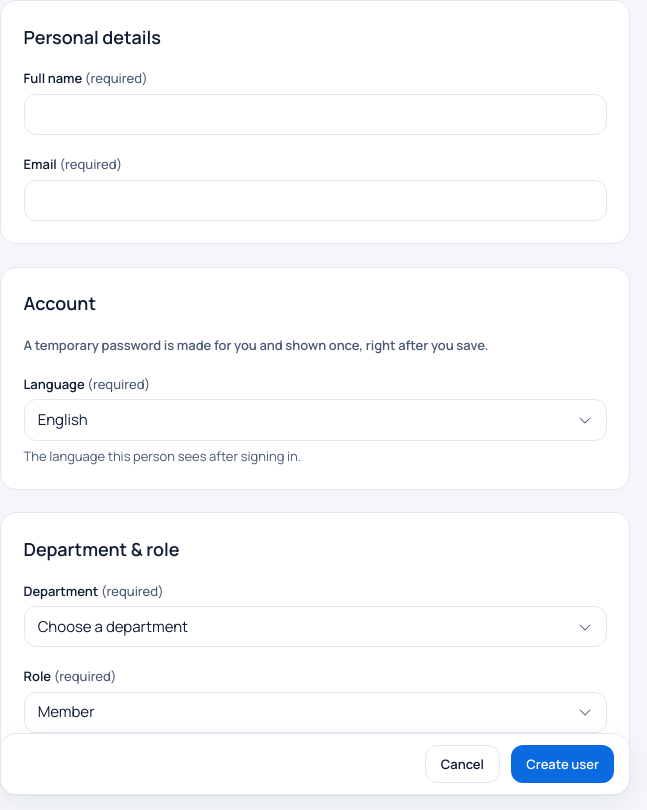
Test: UserForm: saving › puts a server field error beside the field, translated, and focuses it
Step 1. Type "Dana" into the field with id "field-full_name" → (315, 115), box [24, 94, 606, 135]
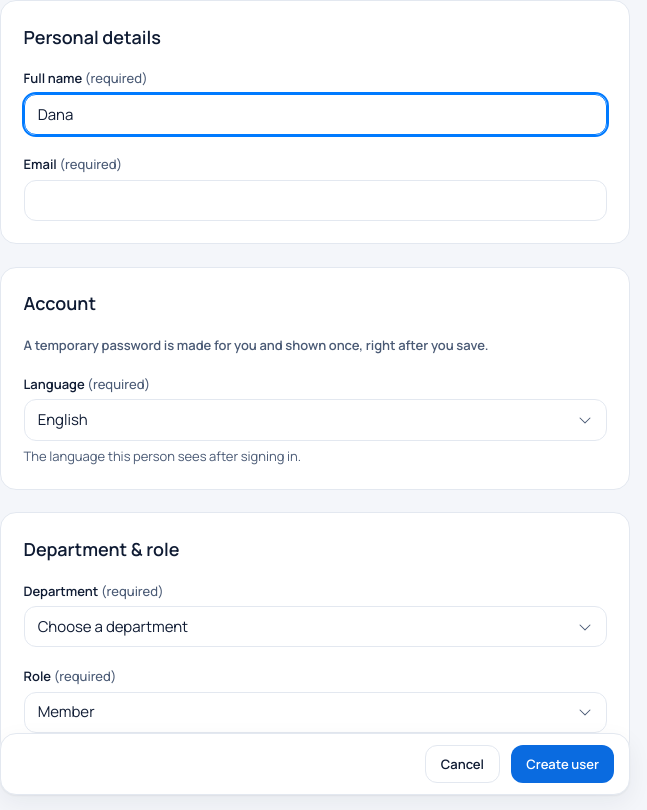
Step 2. Type "dana@x.com" into the field with id "field-email" → (315, 200), box [24, 180, 606, 221]
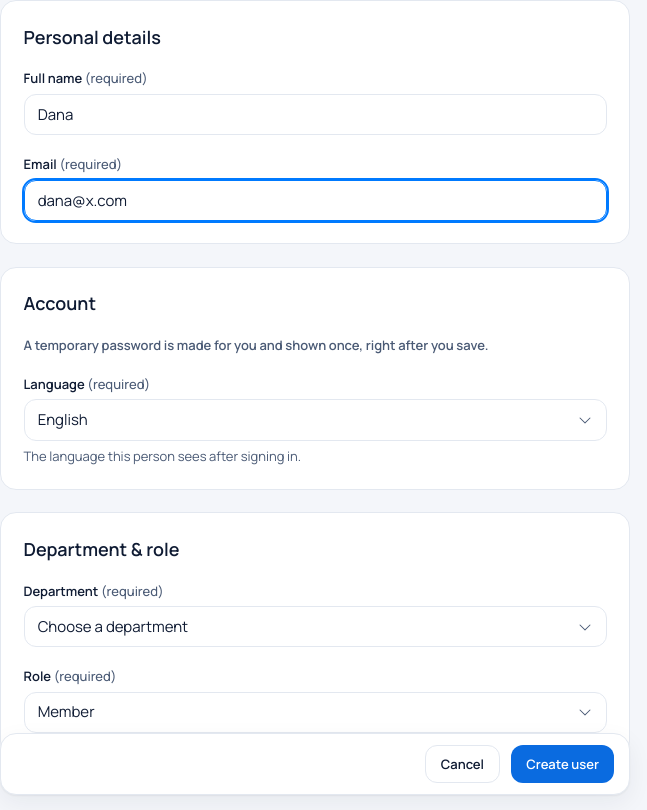
Step 3. Select "Commercial" in the dropdown labelled "Department (required)" → (315, 627), box [24, 606, 606, 647]
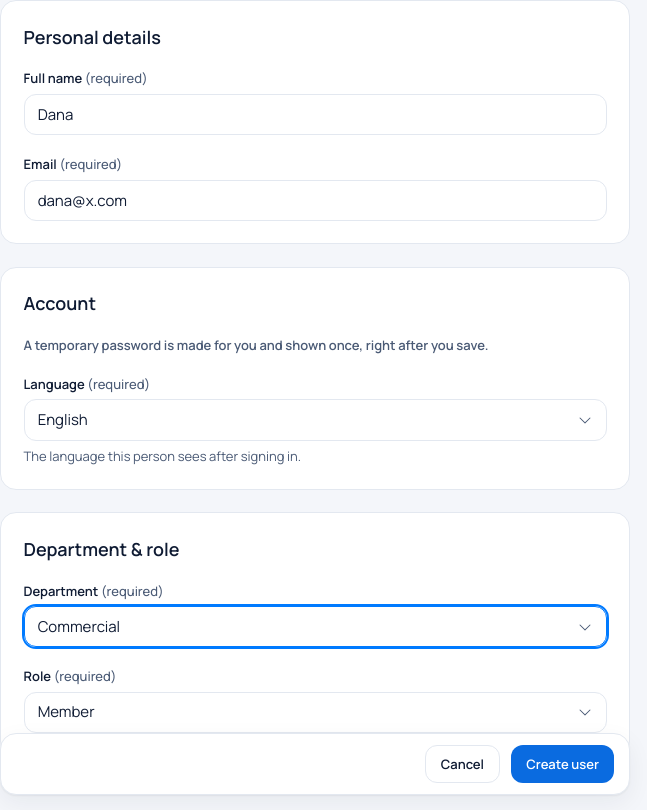
Step 4. Click the button "Create user" → (563, 764), box [511, 745, 614, 783]
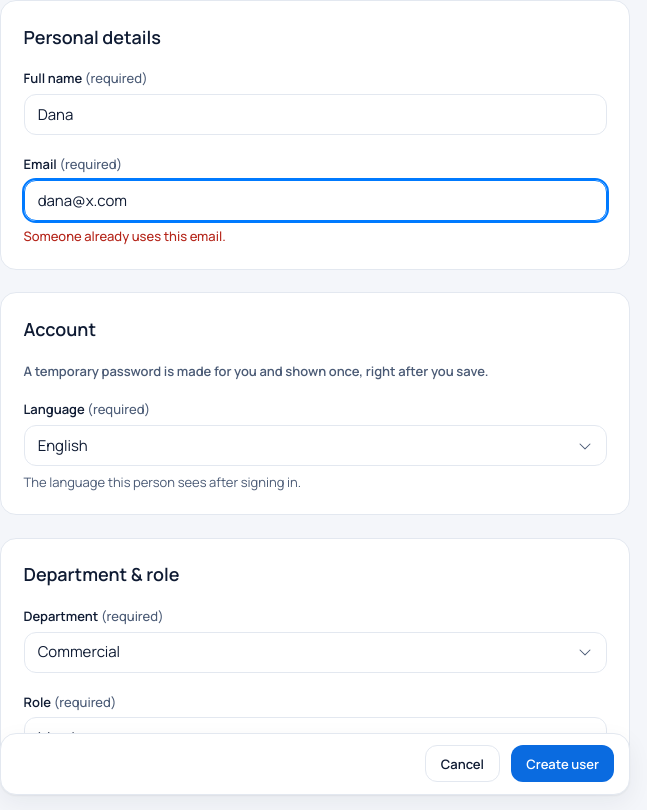
Result: the message reads "Someone already uses this email." at [24, 227, 226, 245]
